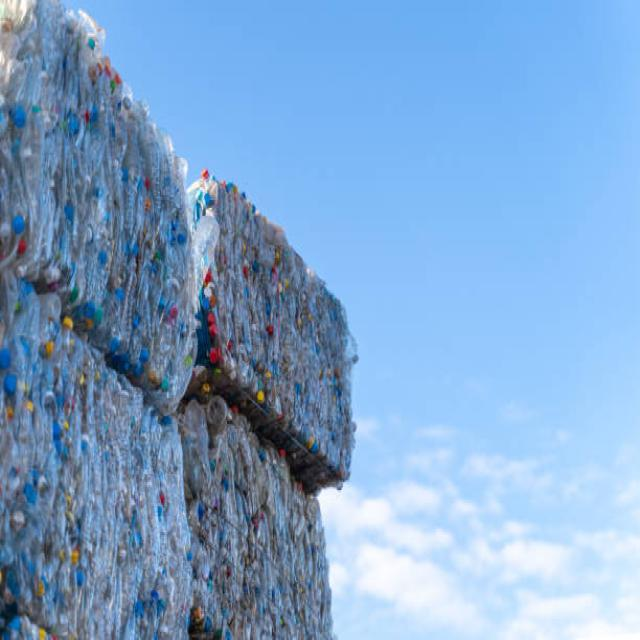plastic: (1, 179, 358, 635), (1, 2, 182, 179)
